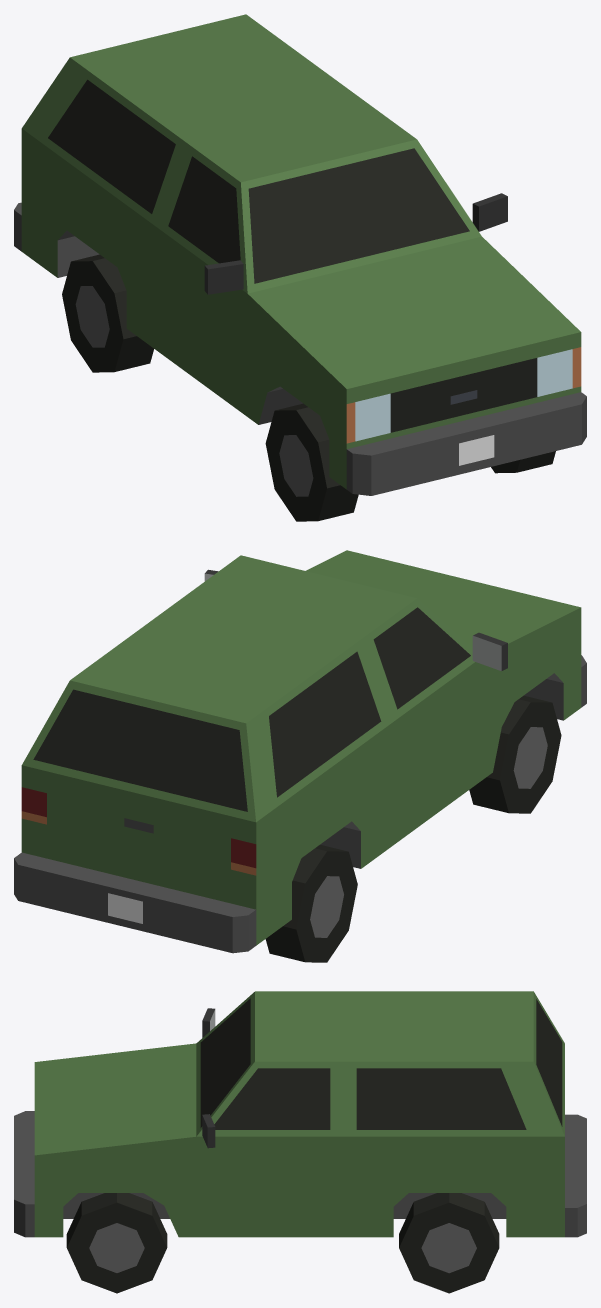
The model's file is Veh_SUV_02_Green.obj.
3 renders of one model, top to bottom at view 1: azimuth 30°, elevation 25°; view 2: azimuth 150°, elevation 25°; view 3: azimuth 270°, elevation 25°, orthographic. The views are drawn at different scales.
Size of the model in its own units: 1.27 by 1.1 by 2.58.
